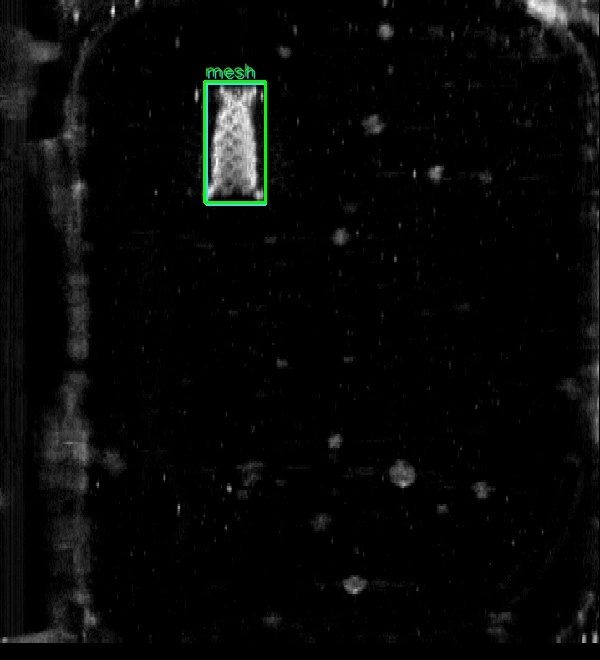mesh: (206, 83, 265, 204)
